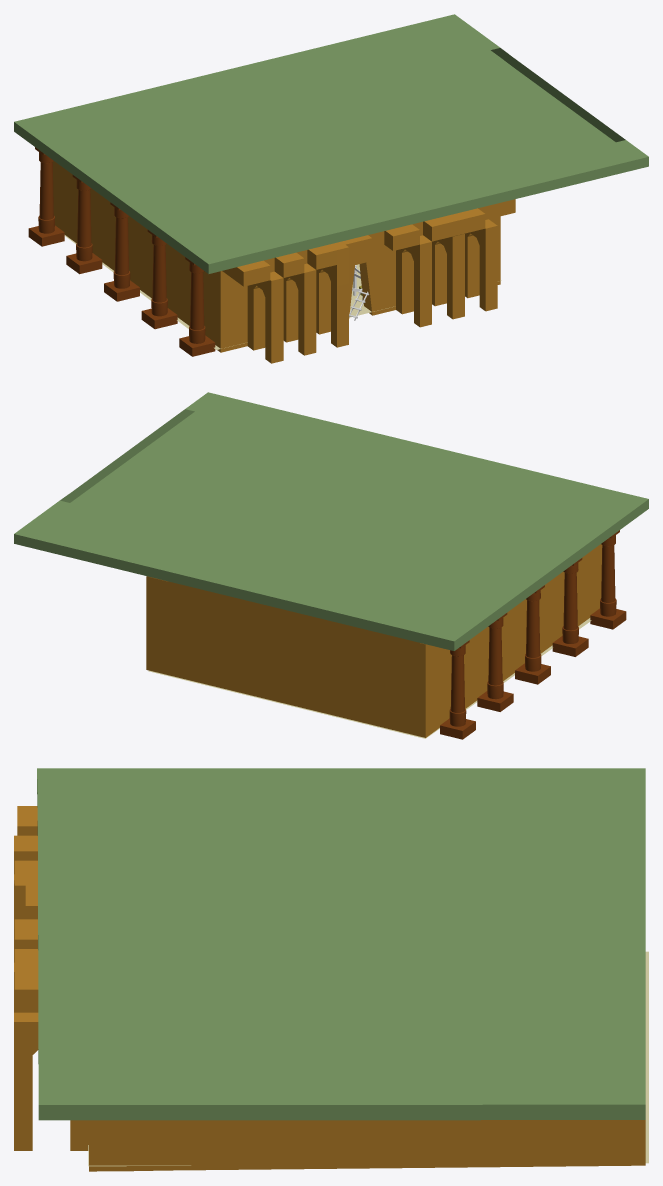
The model's file is Temple_Left_Floor_1.fbx.
3 renders of one model, top to bottom at view 1: azimuth 30°, elevation 25°; view 2: azimuth 150°, elevation 25°; view 3: azimuth 270°, elevation 25°, orthographic. The views are drawn at different scales.
Parts seen in each view (by area): view 1: Roof, Temple_Left_Floor_1, the_outer_column_2, the_outer_column_4, the_outer_column_1, the_outer_column_5, the_outer_column_3, Temple_Left_Floor1; view 2: Roof, Temple_Left_Floor_1, the_outer_column_5, the_outer_column_4, the_outer_column_2, the_outer_column_1, the_outer_column_3, Temple_Left_Floor1; view 3: Roof, Temple_Left_Floor_1, Temple_Left_Floor1.
Part boxes in pixels (box(x1,y1,x2,y2)): Roof: box(14, 14, 648, 273); Temple_Left_Floor_1: box(52, 161, 515, 363); the_outer_column_2: box(141, 230, 177, 329); the_outer_column_4: box(66, 175, 102, 274); the_outer_column_1: box(179, 257, 215, 356); the_outer_column_5: box(28, 147, 64, 246); the_outer_column_3: box(104, 202, 139, 301); Temple_Left_Floor1: box(64, 235, 501, 349); Roof: box(14, 392, 648, 650); Temple_Left_Floor_1: box(146, 544, 602, 737); the_outer_column_5: box(440, 640, 475, 739); the_outer_column_4: box(477, 613, 513, 711); the_outer_column_2: box(552, 558, 588, 656); the_outer_column_1: box(590, 530, 626, 629); the_outer_column_3: box(515, 585, 550, 684); Temple_Left_Floor1: box(148, 618, 591, 738); Roof: box(37, 768, 645, 1120); Temple_Left_Floor_1: box(14, 806, 645, 1171); Temple_Left_Floor1: box(88, 951, 648, 1166).
Size of the model in its own units: 4044 by 943 by 3228.
